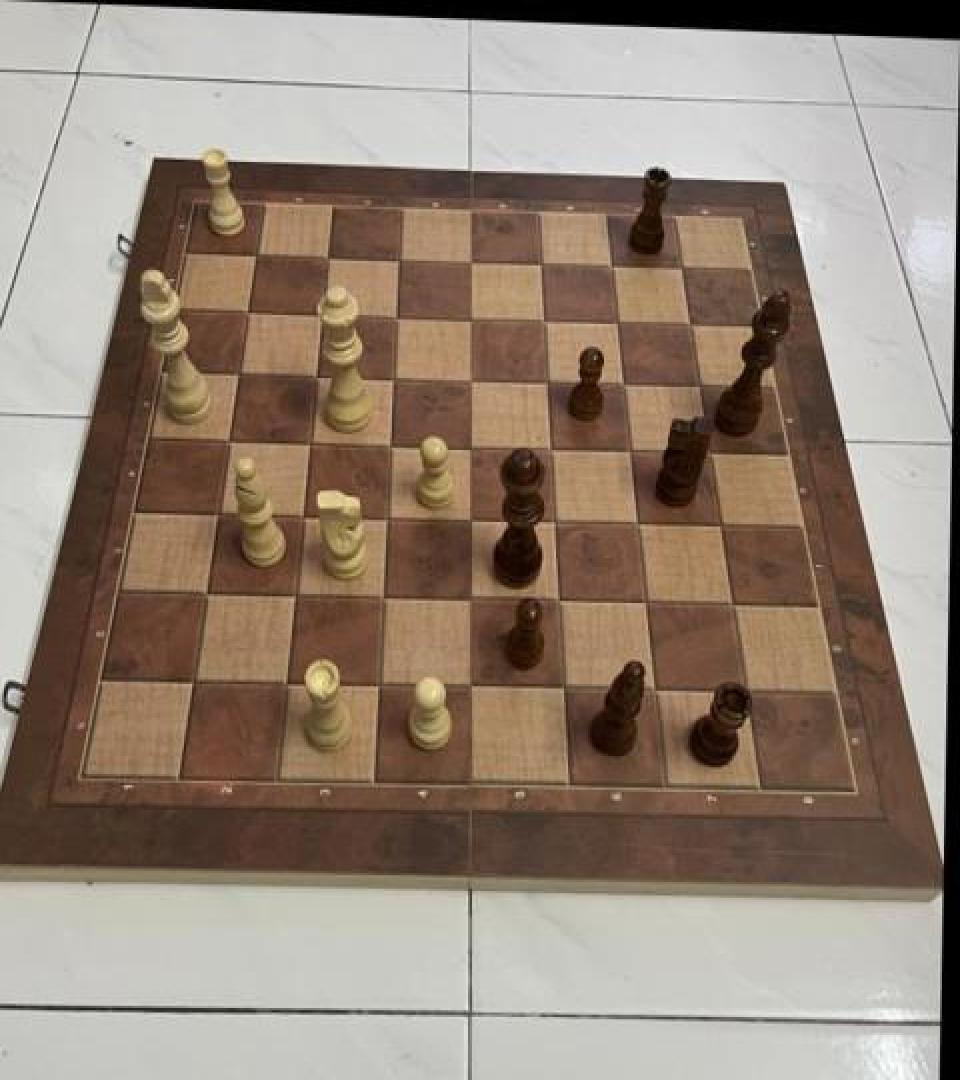xcorner: (368, 580, 400, 617), (280, 579, 312, 616), (548, 669, 580, 706), (665, 253, 697, 289), (594, 251, 626, 287), (523, 248, 555, 284), (452, 246, 484, 282), (381, 245, 413, 281), (309, 243, 341, 279), (237, 241, 269, 277), (673, 310, 705, 346), (600, 307, 632, 343), (527, 306, 559, 342), (453, 304, 485, 340), (379, 302, 411, 338), (304, 299, 336, 335), (229, 298, 261, 334), (683, 370, 715, 406), (607, 369, 639, 405), (530, 367, 562, 403), (454, 364, 486, 400), (377, 364, 409, 400), (299, 361, 331, 397), (221, 359, 253, 395), (693, 436, 725, 472), (614, 436, 646, 472), (534, 433, 566, 469), (454, 431, 486, 467), (374, 430, 406, 466), (293, 428, 325, 464), (212, 426, 244, 462), (704, 508, 736, 544), (621, 508, 653, 544), (538, 505, 570, 541), (455, 504, 487, 540), (371, 502, 403, 538), (287, 500, 319, 536), (202, 498, 234, 534), (716, 586, 748, 622), (630, 585, 662, 621), (543, 584, 575, 620), (456, 583, 488, 619), (192, 578, 224, 614), (729, 672, 761, 708), (639, 670, 671, 706), (457, 668, 489, 704), (365, 667, 397, 703), (273, 666, 305, 702), (180, 665, 212, 701)
